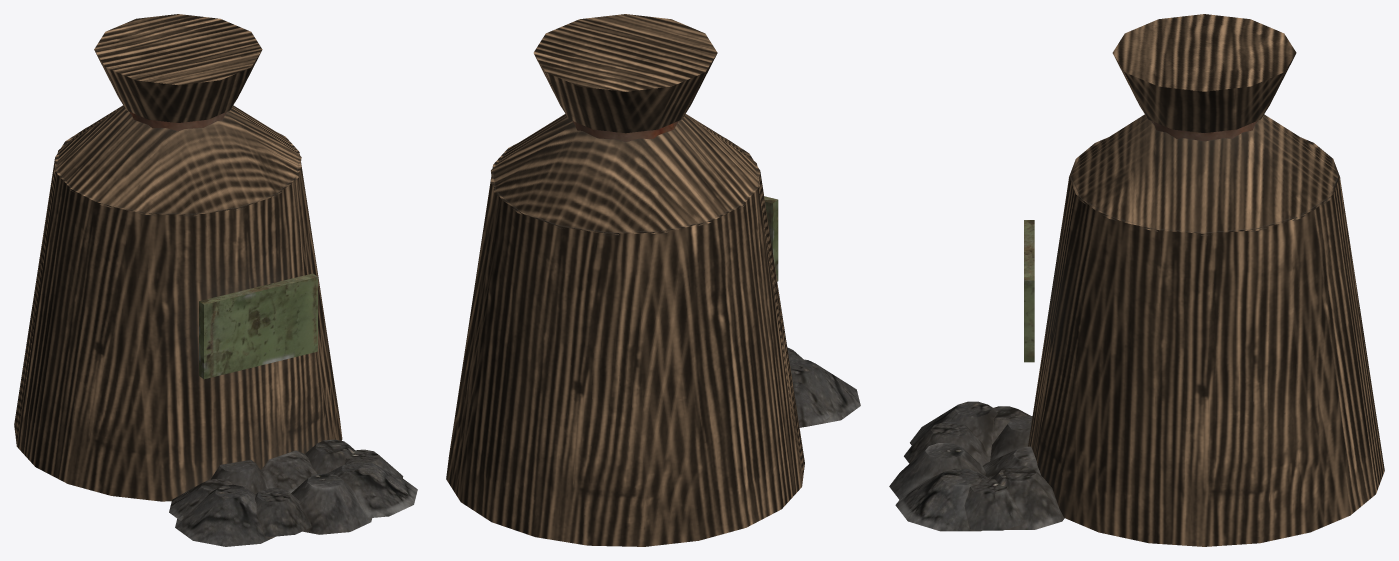
The model's file is feFertilizer_HD.fbx.
3 views of the same model, side by side, from view 1: azimuth 30°, elevation 25°; view 2: azimuth 150°, elevation 25°; view 3: azimuth 270°, elevation 25° (orthographic). The views are drawn at different scales.
Parts seen in each view (by area): view 1: feFertilizer_Base; view 2: feFertilizer_Base; view 3: feFertilizer_Base.
Part boxes in pixels (bbox=[...]): feFertilizer_Base: bbox=[14, 14, 417, 546]; feFertilizer_Base: bbox=[446, 14, 860, 546]; feFertilizer_Base: bbox=[889, 14, 1384, 546].
Size of the model in its own units: 0.4012 by 0.5148 by 0.5515.
Materials: 1 (1 with a texture image).
